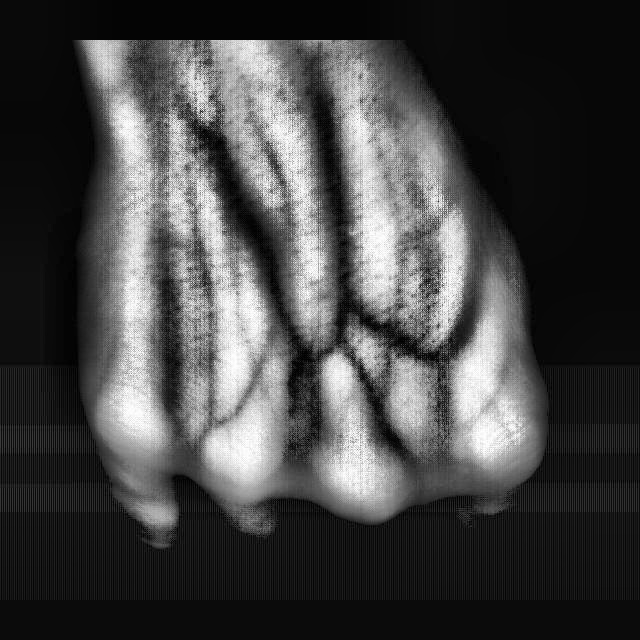Vein: (206, 146, 296, 317), (309, 93, 359, 287)
